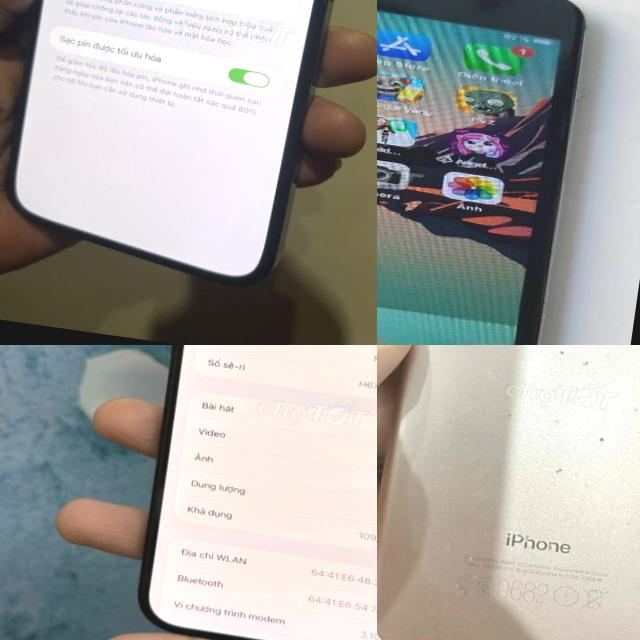gen_14: (0, 0, 377, 296)
gen_15: (114, 345, 377, 640)
gen_6: (377, 0, 615, 345)
gen_7_8: (377, 345, 640, 640)
scratch: (426, 518, 496, 604), (546, 414, 568, 428), (543, 464, 569, 475), (623, 404, 640, 417), (590, 433, 612, 442), (579, 356, 593, 368), (554, 346, 566, 358), (504, 411, 516, 419)
